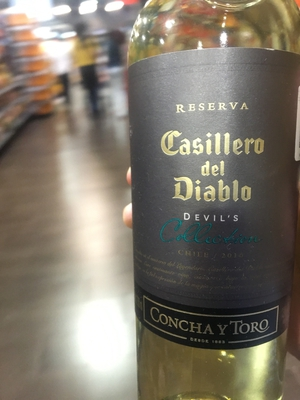casillero del diablo devils collection verde: (124, 11, 300, 394)
